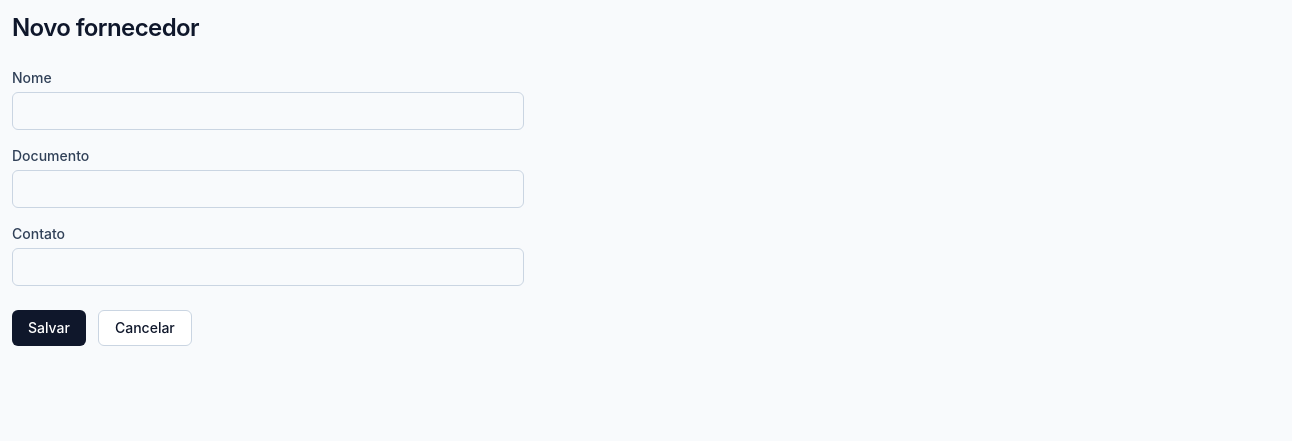
it: SupplierFormPage › requires a name
The width and height of the screenshot is (1292, 441).
Click the button "Salvar" at (49, 328), box [12,310,86,346]
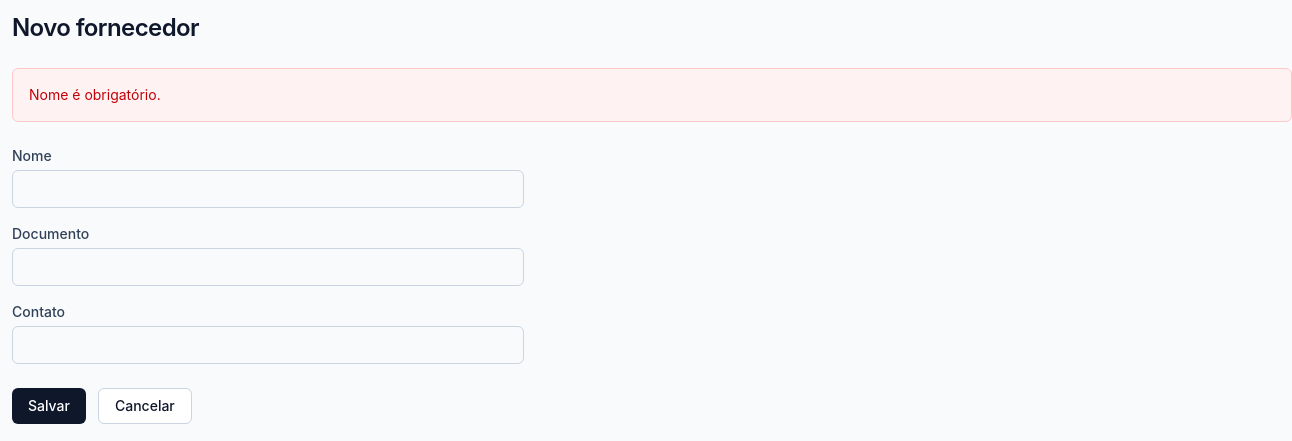
Now the text "Nome é obrigatório." is shown, box [12,68,1291,122]
